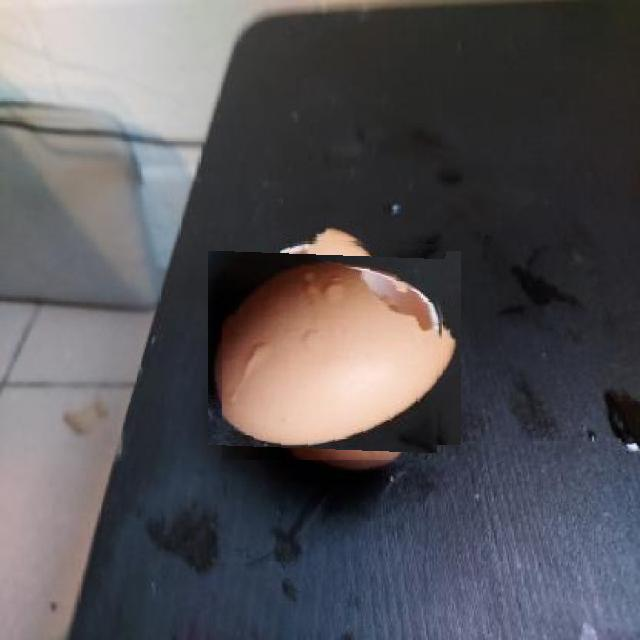biodegradable: (223, 237, 447, 460)
